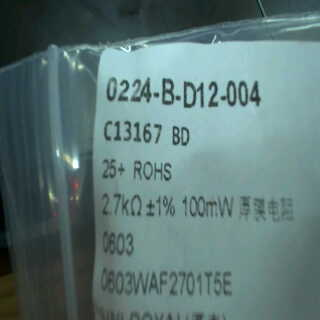2.7kR: (100, 188, 144, 219)
